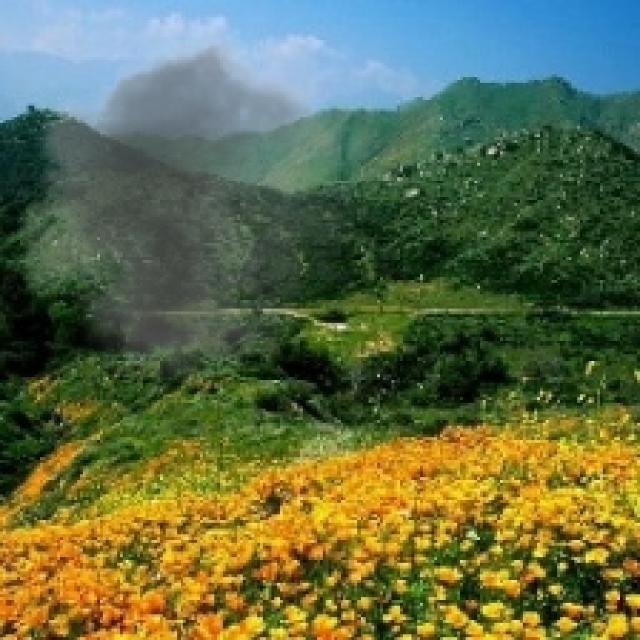smoke: (3, 17, 383, 383)
